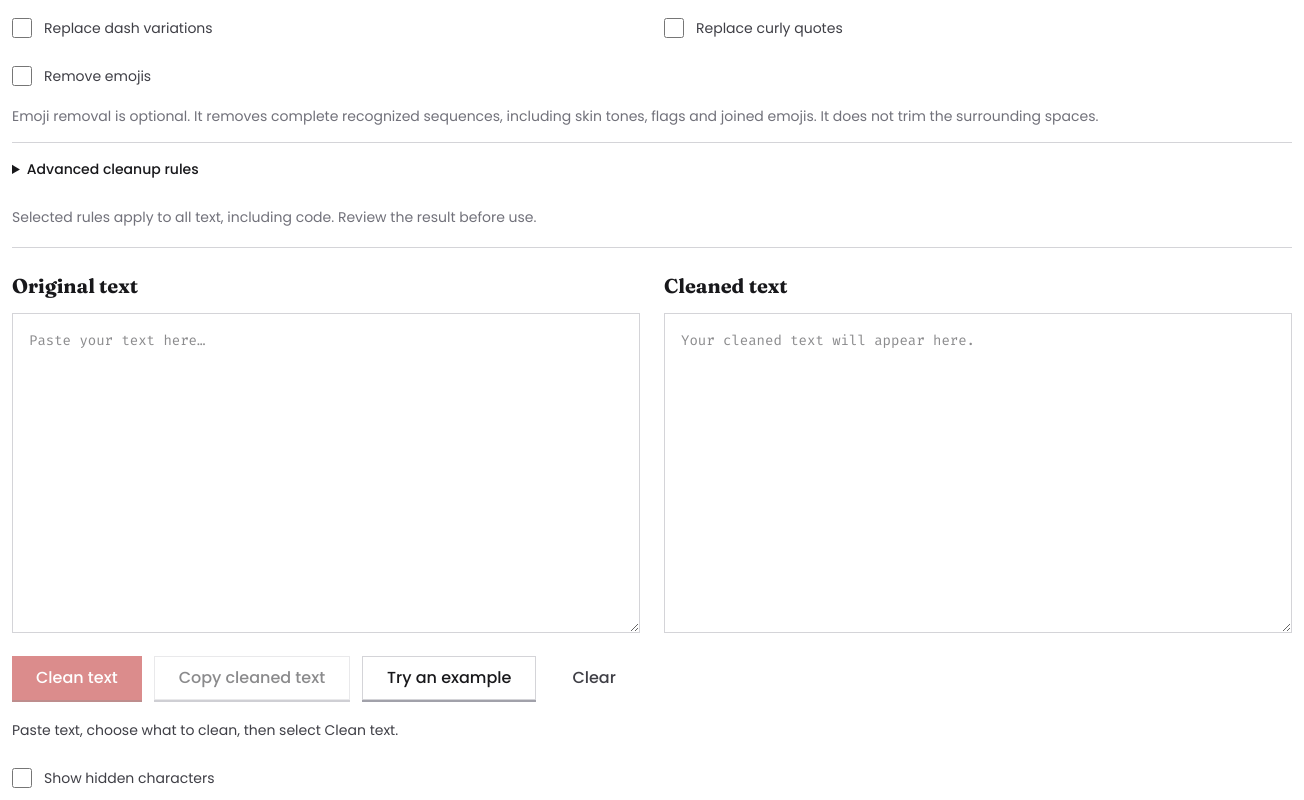
Test case: TextCleanerComponent › handles clipboard failure and invalidates stale output when input changes
(page scrolled)
Click the button "Try an example": [449, 678] box left=362, top=656, right=536, bottom=700
(page scrolled)
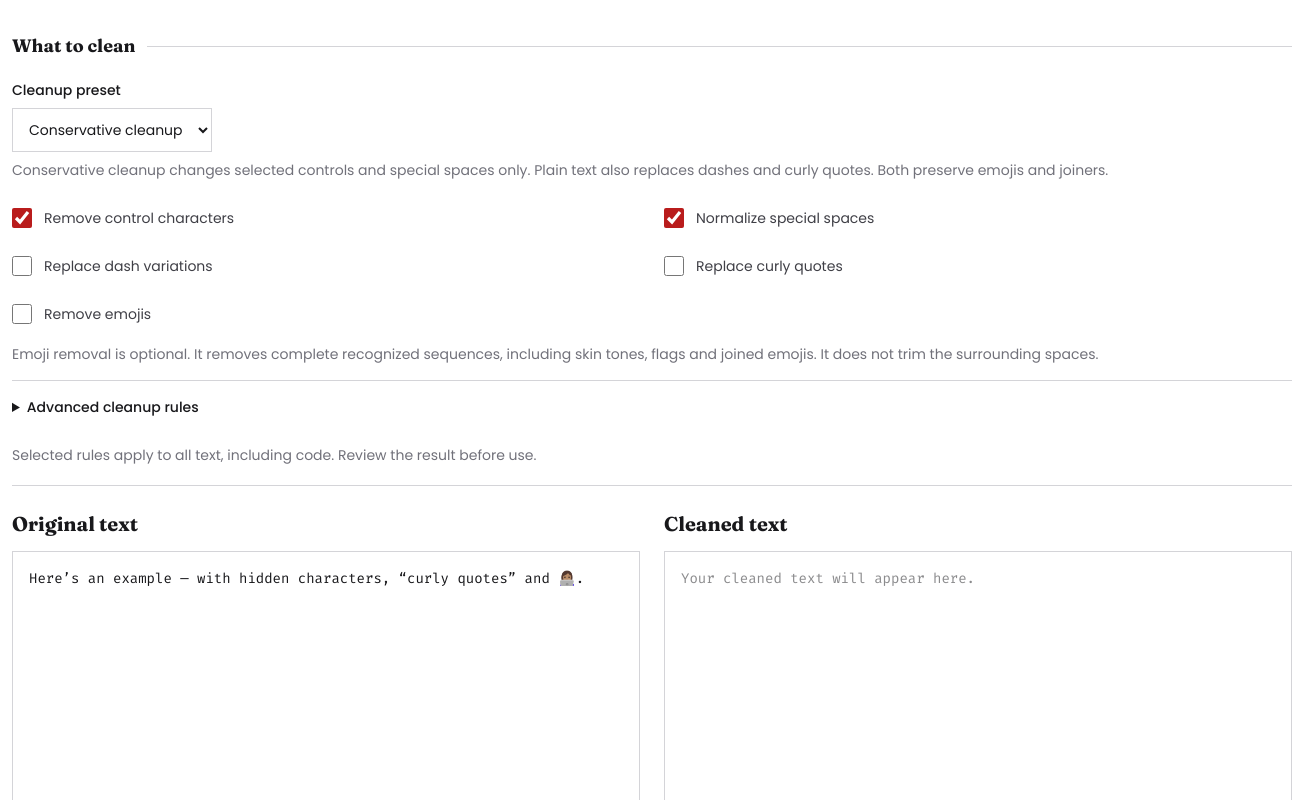
Select "Plain-text cleanup" in the dropdown labelled "Cleanup preset": [112, 130] box left=12, top=108, right=212, bottom=152
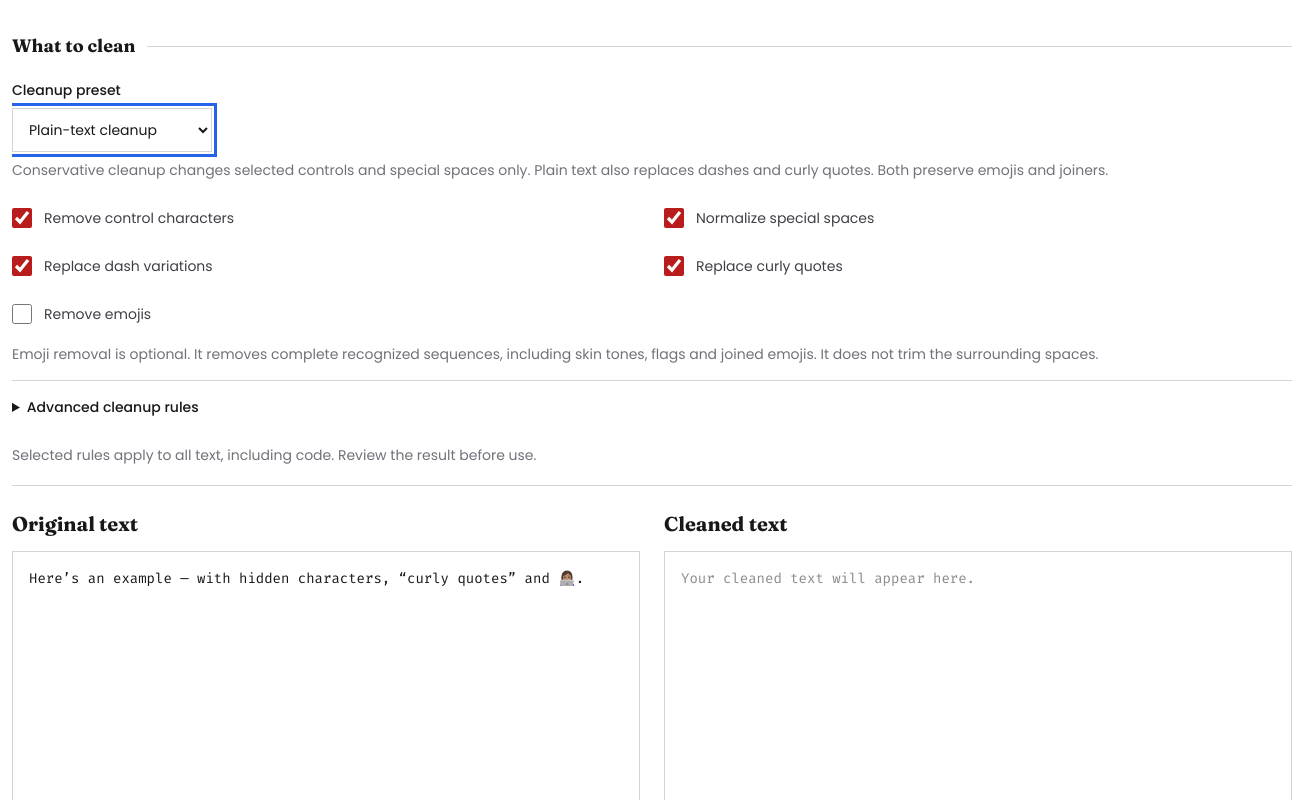
Click the checkbox labelled "Replace dash variations": [22, 266] box left=12, top=256, right=32, bottom=276
(page scrolled)
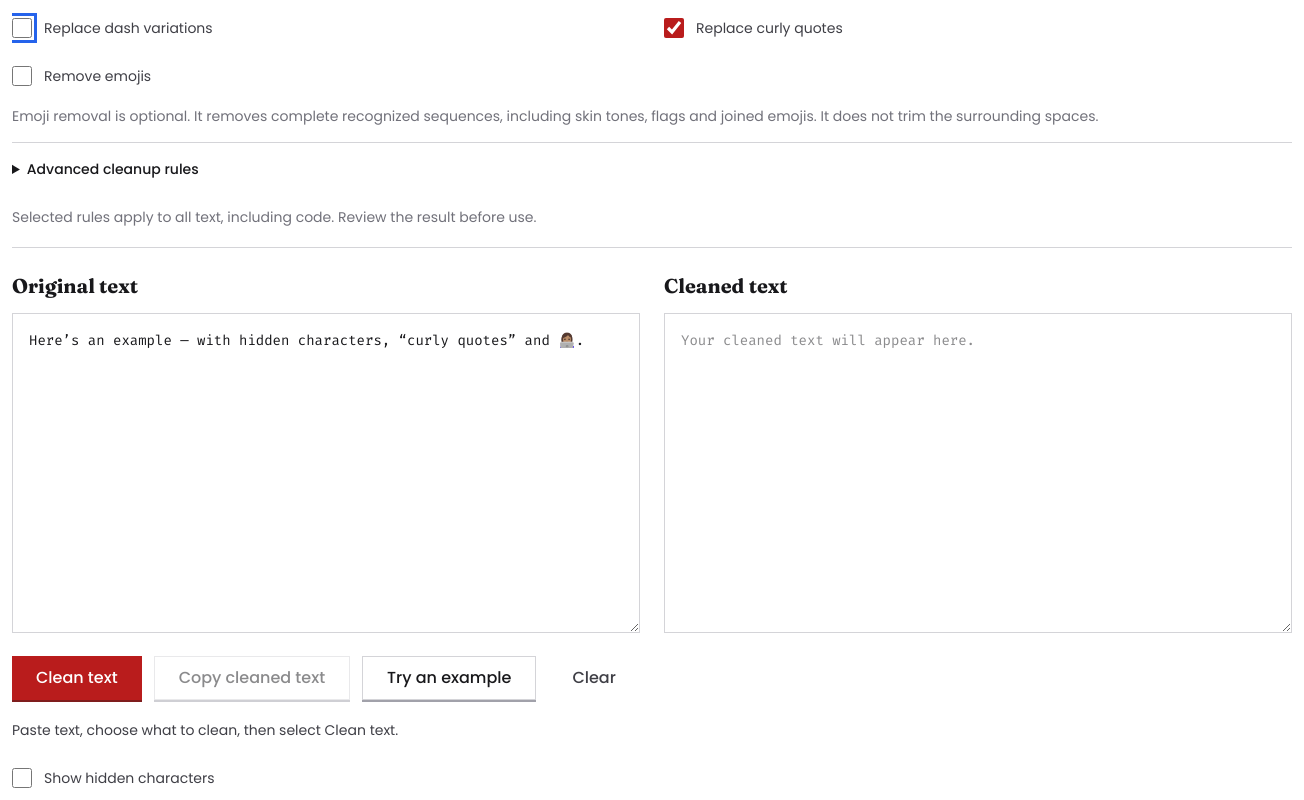
Click the button "Clean text": [77, 678] box left=12, top=656, right=142, bottom=700
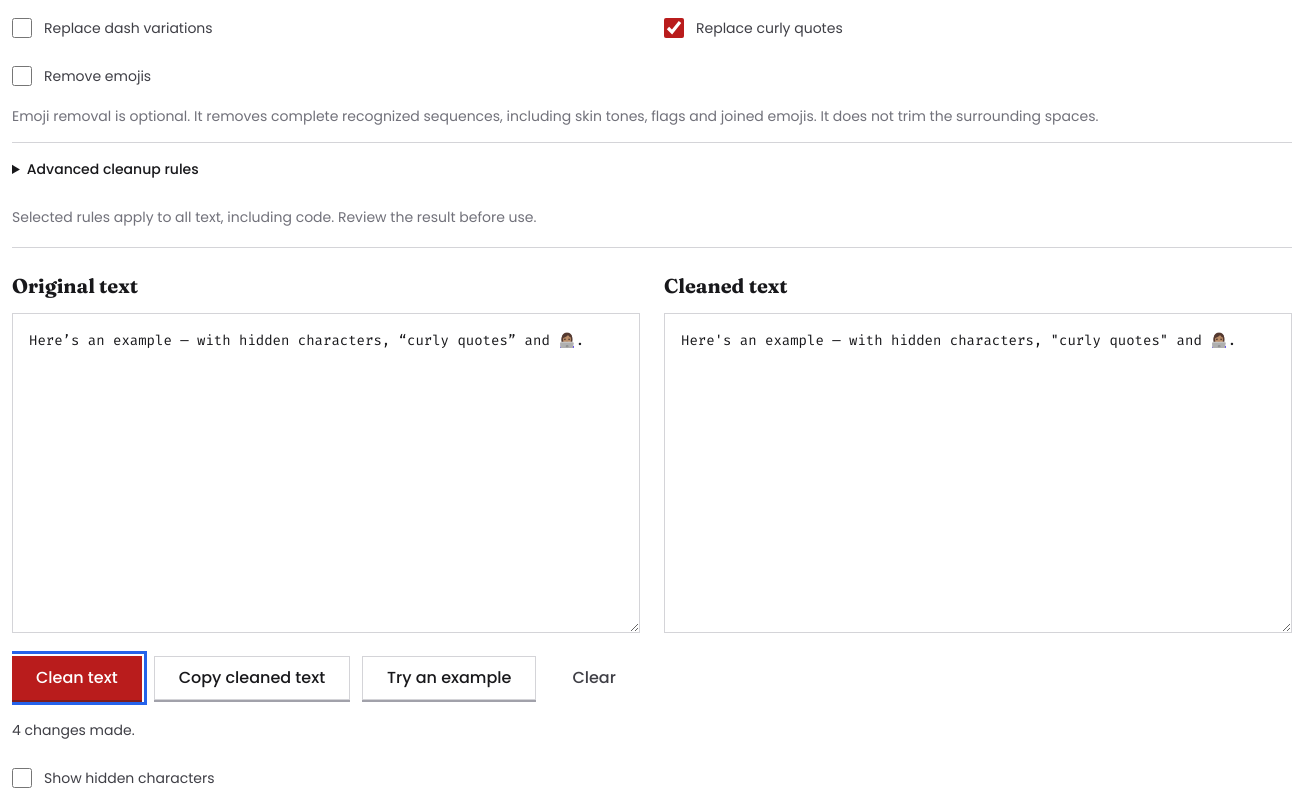
Click the button "Copy cleaned text": [252, 678] box left=154, top=656, right=350, bottom=700
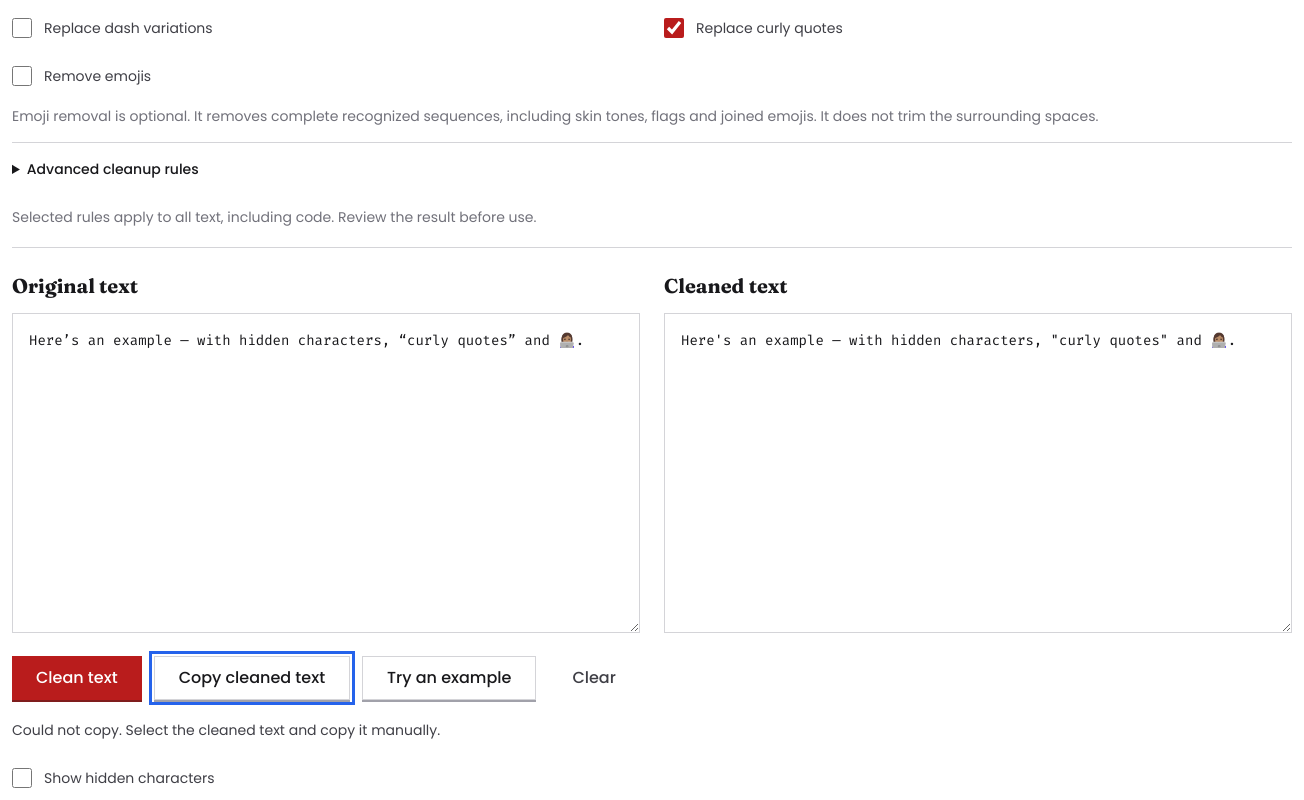
Now the message shows "Could not copy", box left=12, top=720, right=440, bottom=740
In the text box labelled "Original text": [326, 473] box left=12, top=313, right=640, bottom=633, type "New"
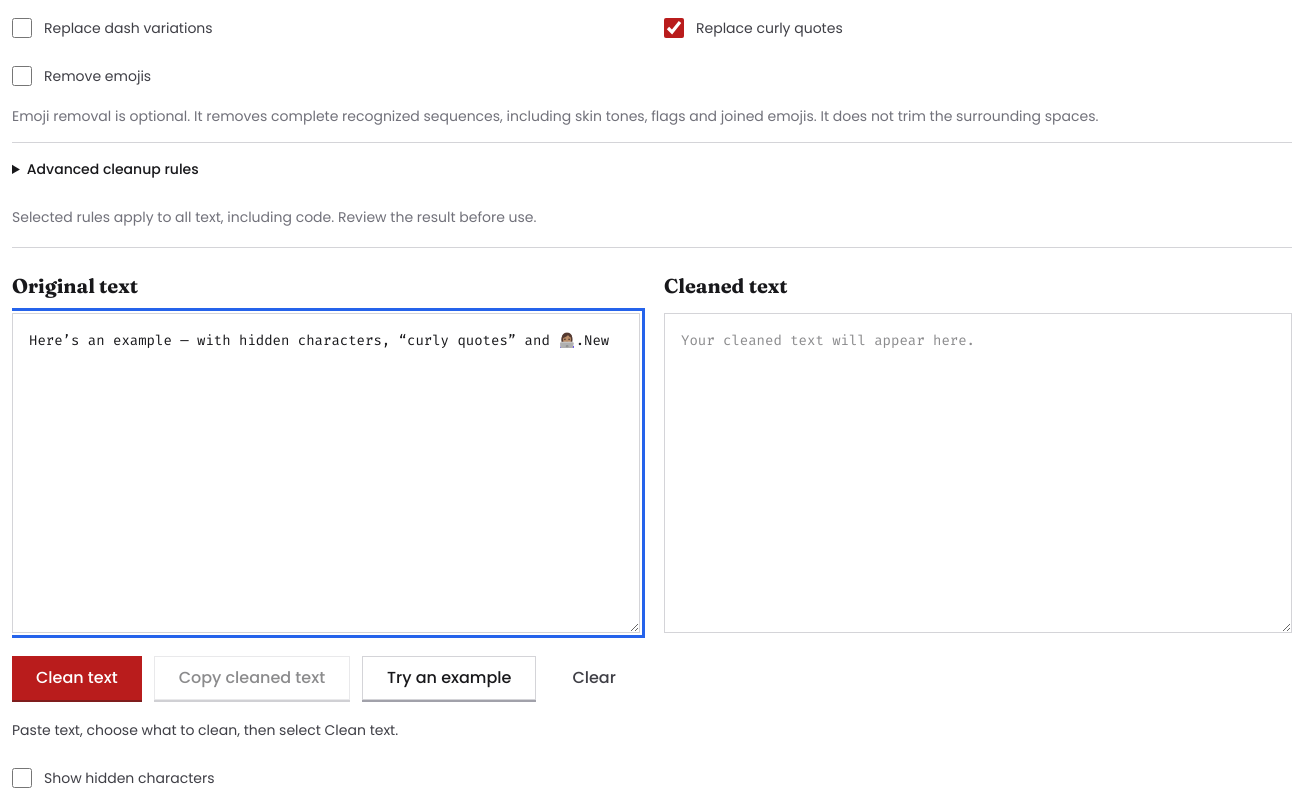
Now the text box labelled "Cleaned text" is empty, box left=664, top=313, right=1292, bottom=633
Now the button "Copy cleaned text" is disabled, box left=154, top=656, right=350, bottom=700
Now the message no longer shows "Could not copy", box left=12, top=720, right=398, bottom=740
